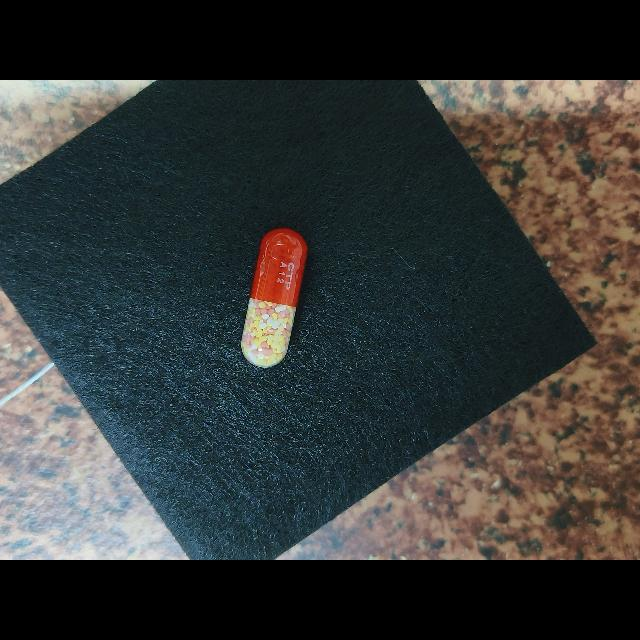Intact Capsule: (241, 227, 308, 367)
